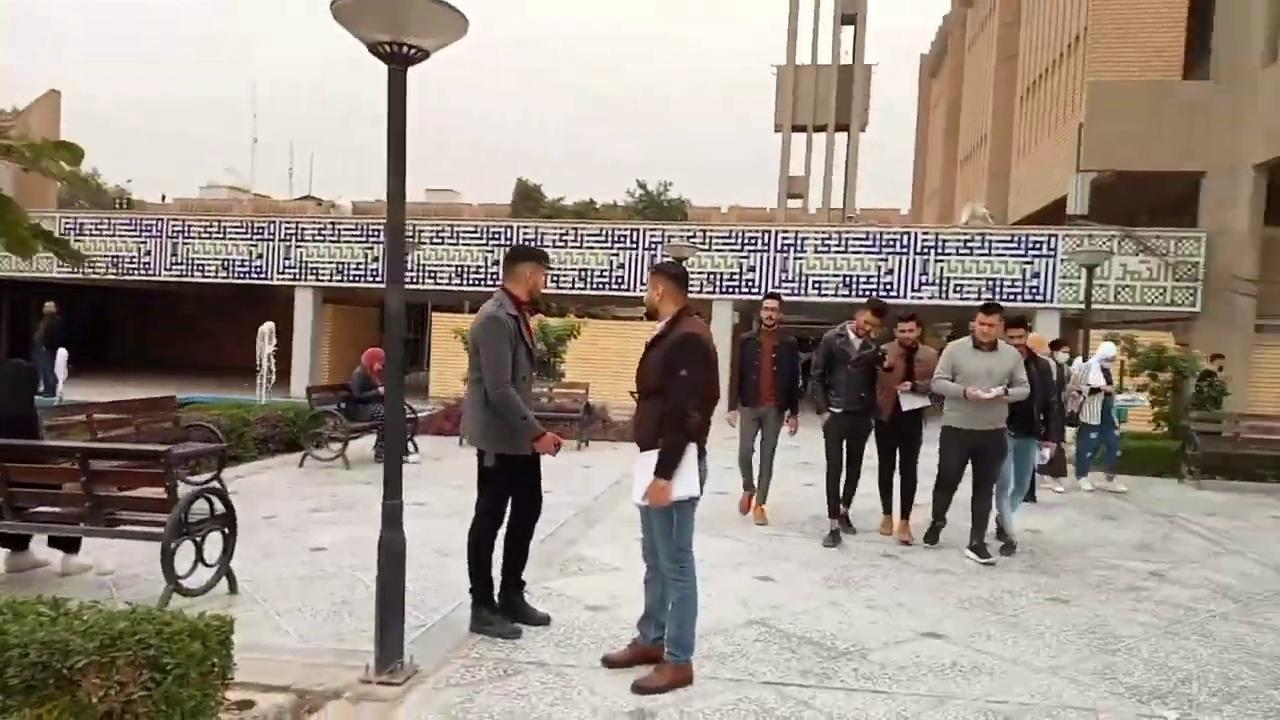fountain: (253, 319, 278, 404)
person: (599, 261, 720, 695), (460, 244, 564, 639), (922, 301, 1031, 565), (808, 297, 891, 548), (726, 291, 802, 525), (993, 314, 1058, 556), (872, 311, 939, 545), (1066, 339, 1128, 492), (350, 346, 385, 462), (31, 299, 66, 398)
tree: (0, 592, 236, 718), (0, 106, 132, 268), (1118, 334, 1231, 479), (451, 312, 581, 389), (508, 175, 689, 221), (1131, 338, 1202, 434), (531, 315, 581, 382), (623, 177, 688, 220), (509, 175, 547, 218), (451, 320, 472, 386)
